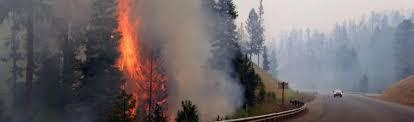fire: (112, 0, 167, 113)
